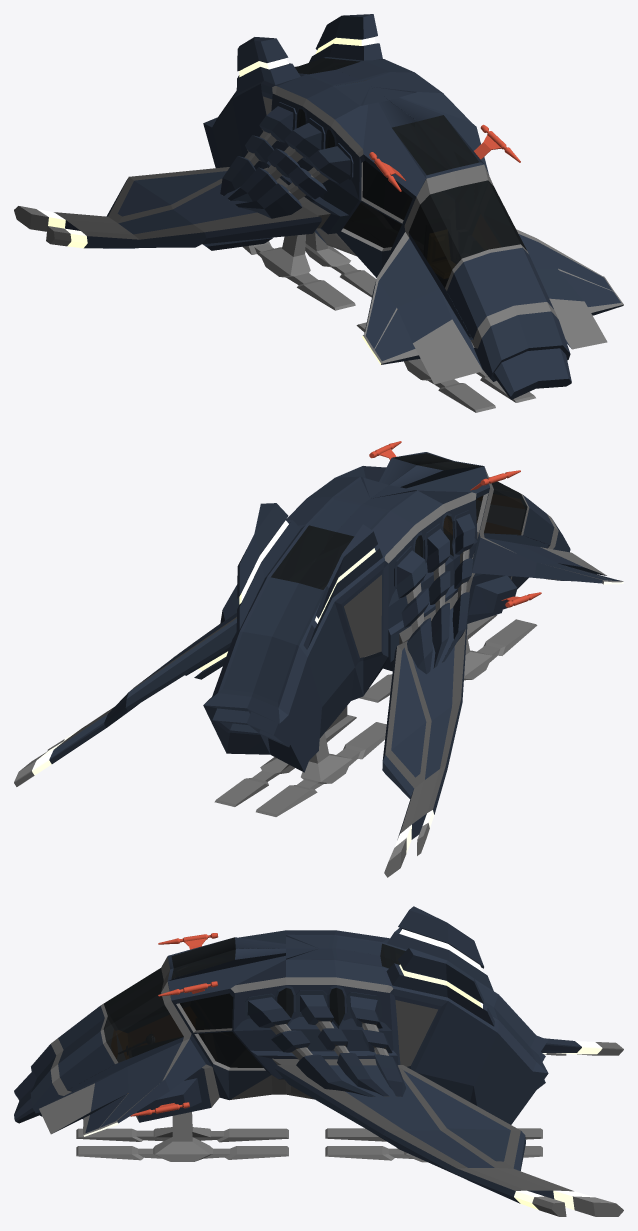
The model's file is mq2_mosquita_2.glb.
The picture shows the model from 3 angles, top to bottom: view 1: azimuth 30°, elevation 25°; view 2: azimuth 150°, elevation 25°; view 3: azimuth 270°, elevation 25°; orthographic projection. The views are drawn at different scales.
Visible parts, largest first — view 1: The Gnat, rear landing gear, front landing gear, projectile.001; view 2: The Gnat, rear landing gear, front landing gear; view 3: The Gnat, front landing gear, rear landing gear, projectile.001.
Part boxes in pixels (x1,y1,x2,y2): The Gnat: (14, 14, 623, 399); rear landing gear: (242, 232, 376, 310); front landing gear: (356, 322, 535, 412); projectile.001: (369, 124, 520, 191); The Gnat: (14, 452, 623, 877); rear landing gear: (214, 715, 386, 816); front landing gear: (359, 615, 537, 702); The Gnat: (14, 906, 623, 1216); front landing gear: (76, 1112, 288, 1161); rear landing gear: (325, 1128, 542, 1162); projectile.001: (158, 933, 218, 996).
Bounding box in the file's own units: 500 × 318 × 800.
